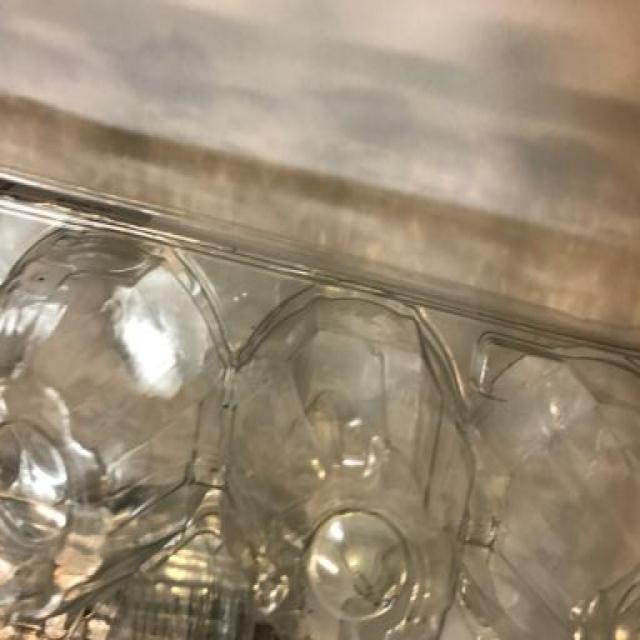Waste: (0, 174, 640, 640)
